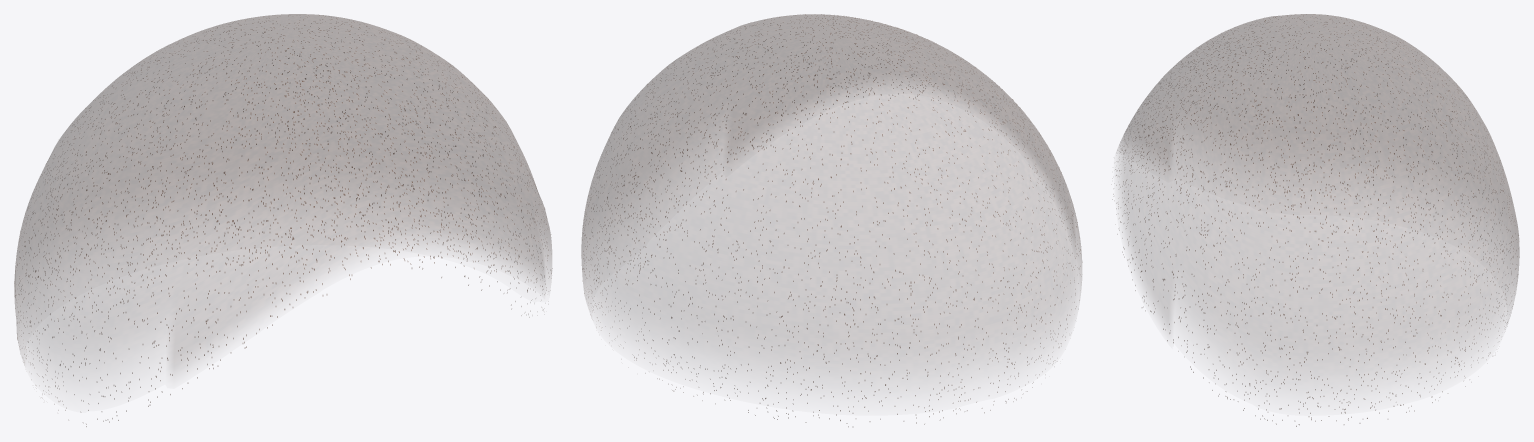
Rendered from Masculine-buzz-covered248-hair.glb.
3 views of the same model, side by side, from view 1: azimuth 30°, elevation 25°; view 2: azimuth 150°, elevation 25°; view 3: azimuth 270°, elevation 25° (orthographic). The views are drawn at different scales.
Visible parts, largest first — view 1: 226 hair / Hair / neutral coverage235.002, 226 hair / Hair / cut grain235.002; view 2: 226 hair / Hair / neutral coverage235.002, 226 hair / Hair / cut grain235.002; view 3: 226 hair / Hair / neutral coverage235.002, 226 hair / Hair / cut grain235.002.
Boxes of the visible parts, left/top/right/bottom form: 226 hair / Hair / neutral coverage235.002: left=14, top=14, right=551, bottom=367; 226 hair / Hair / cut grain235.002: left=15, top=15, right=552, bottom=426; 226 hair / Hair / neutral coverage235.002: left=581, top=14, right=1081, bottom=370; 226 hair / Hair / cut grain235.002: left=582, top=14, right=1080, bottom=426; 226 hair / Hair / neutral coverage235.002: left=1118, top=14, right=1519, bottom=372; 226 hair / Hair / cut grain235.002: left=1112, top=18, right=1518, bottom=426.
Bounding box in the file's own units: 0.9586 × 0.621 × 0.7845.
2 materials, 1 textured.
